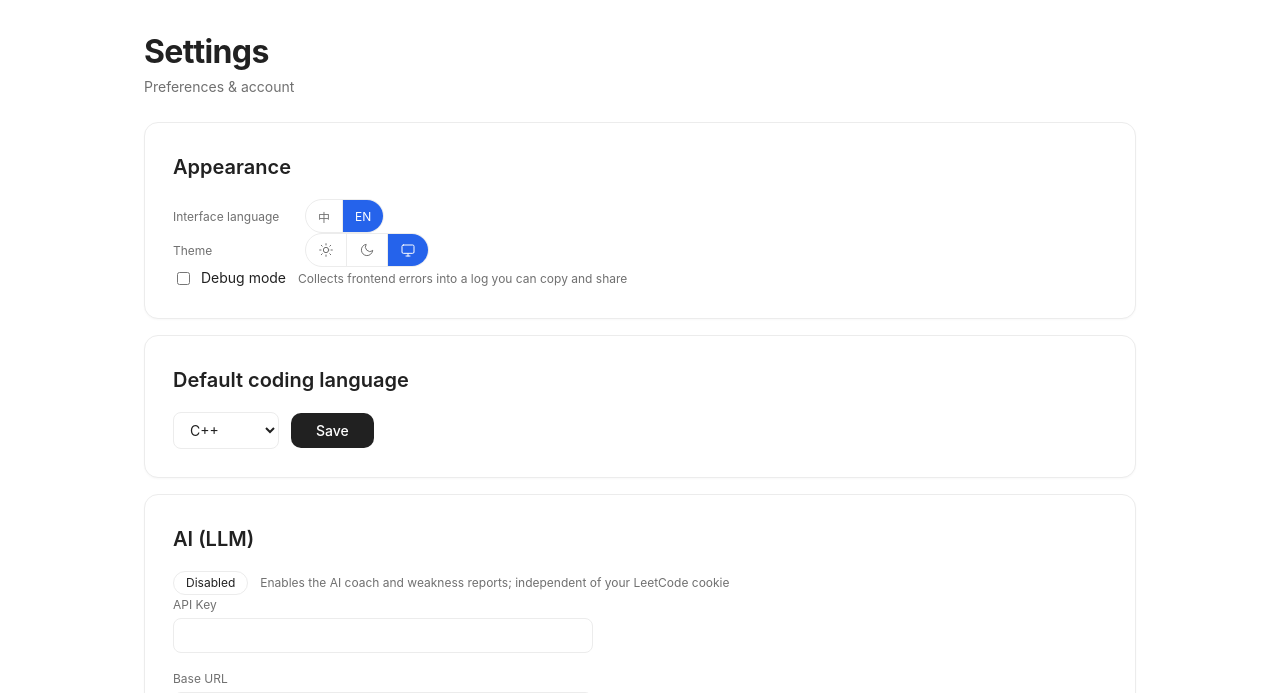
it: Settings view › saves the default coding language
Select "Java" in the dropdown with test id "coding-lang-select" at (226, 430), box 173,412 -> 279,449
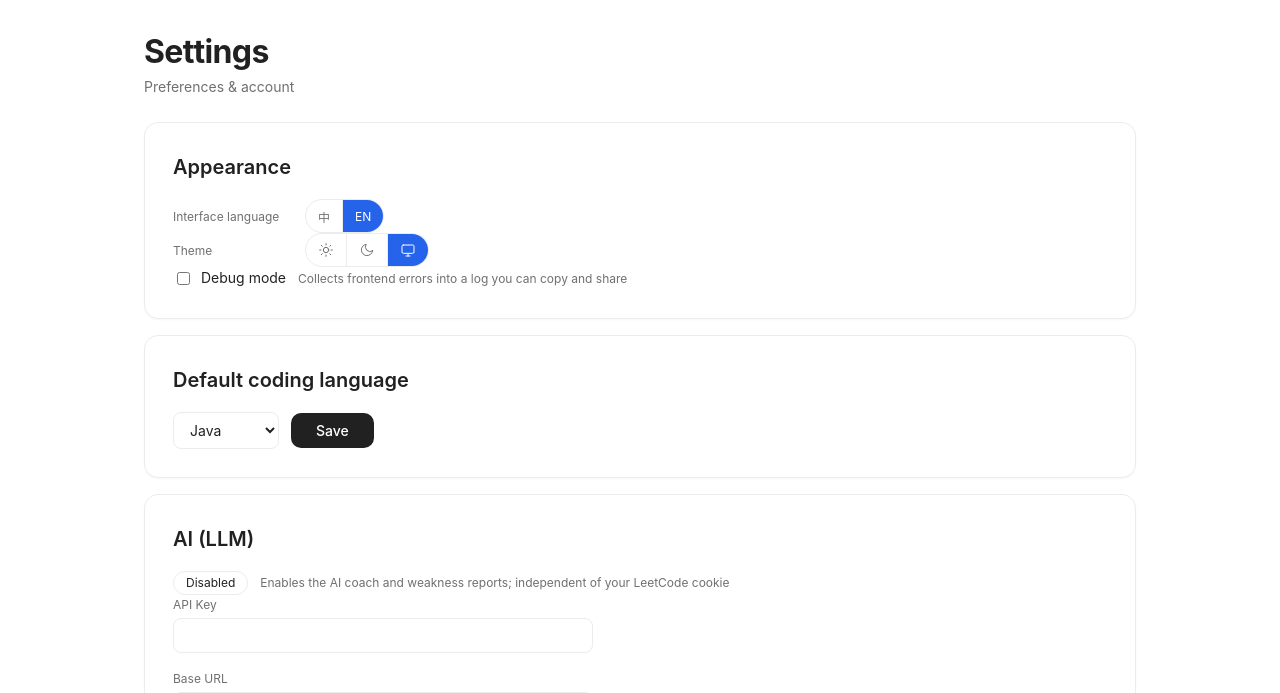
Click the button "Save" at (332, 430), box 291,413 -> 374,448
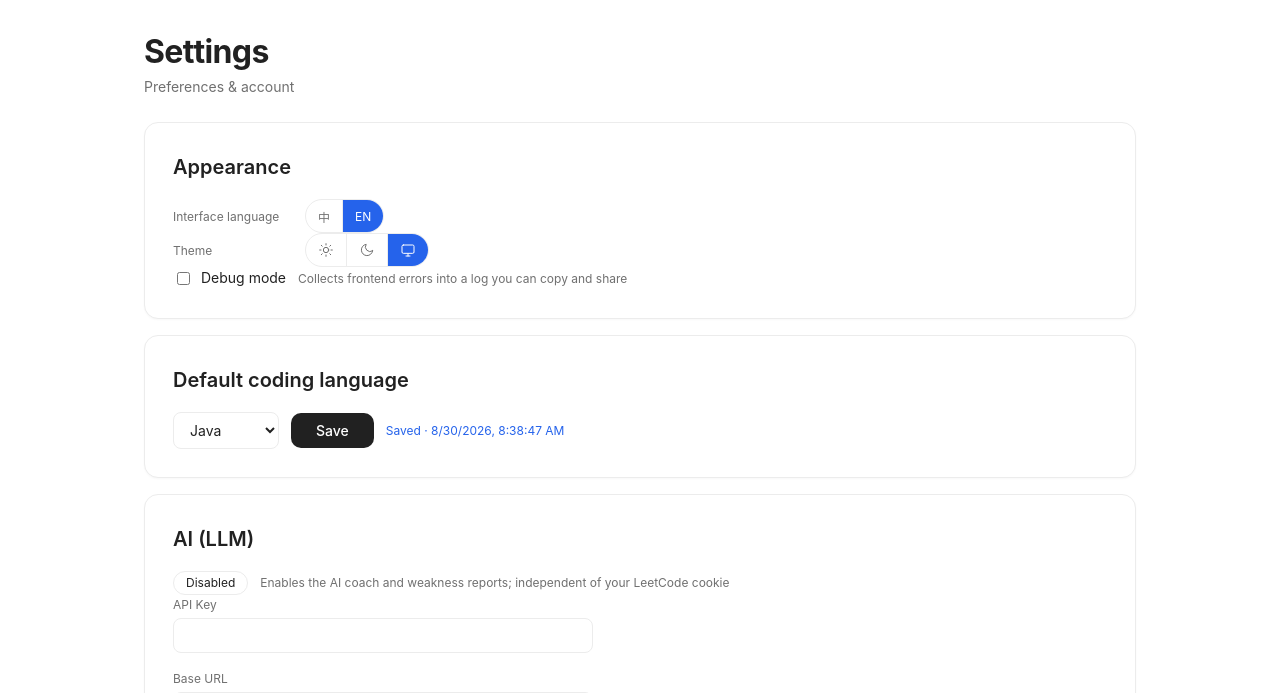
Now the text "Saved · 8/30/2026, 8:38:47 AM" is shown, box 386,421 -> 564,440
